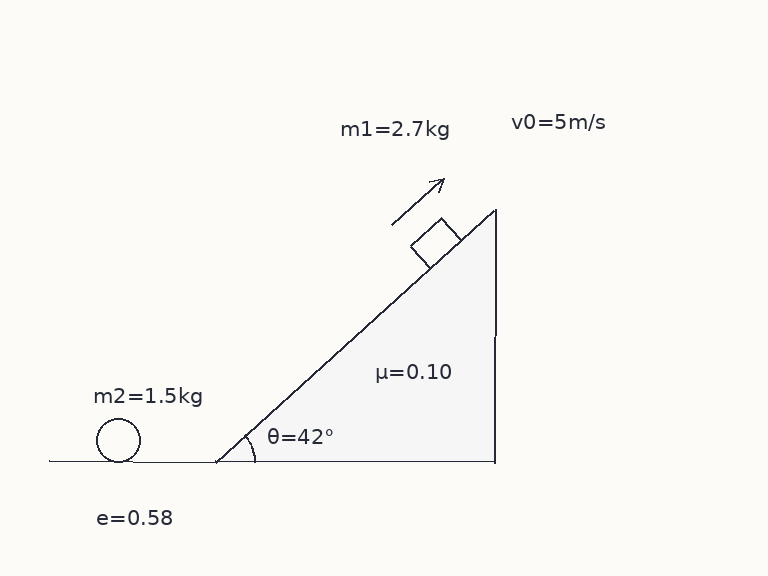ball: (94, 416, 142, 464)
block: (408, 215, 463, 270)
ramp: (213, 209, 496, 464)
